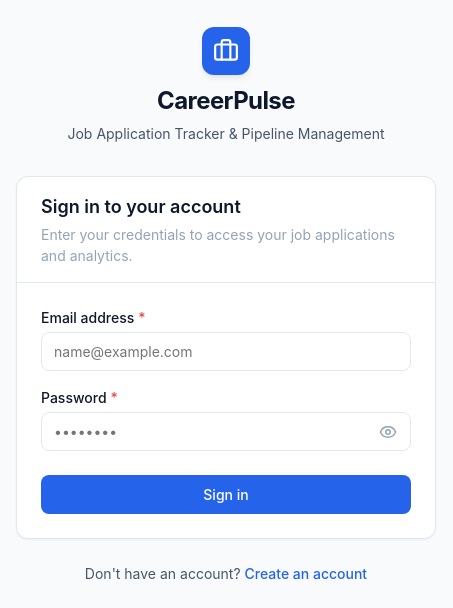
Test: LoginPage Component (Phase 6.5C) › 3. validates email format correctly
Type "not-an-email" into the field labelled "Email address *" at coordinates (226, 351), box [41, 332, 411, 370]
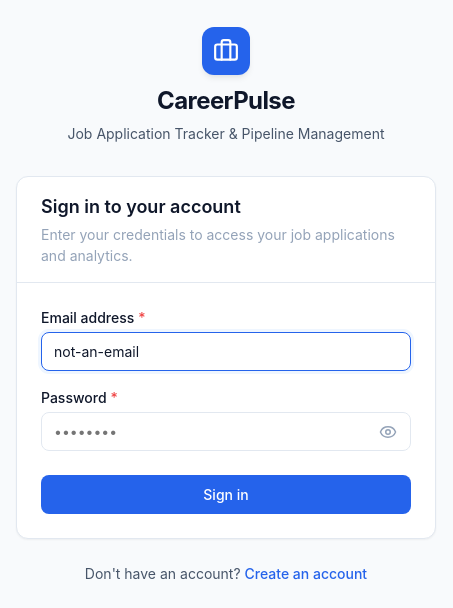
Type "password123" into the password field labelled "Password *" at coordinates (226, 431), box [41, 412, 411, 450]
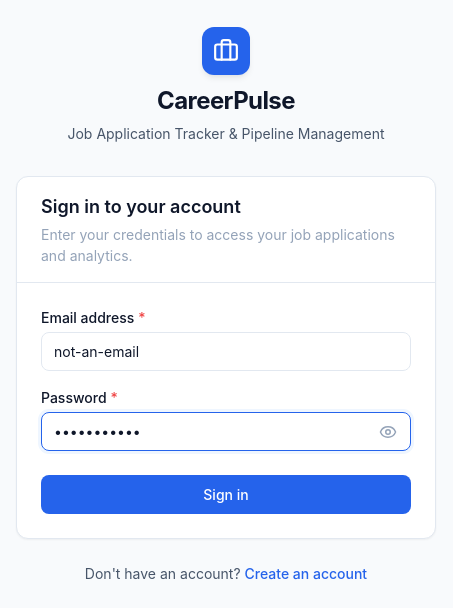
Click the button "Sign in" at coordinates (226, 494), box [41, 474, 411, 514]
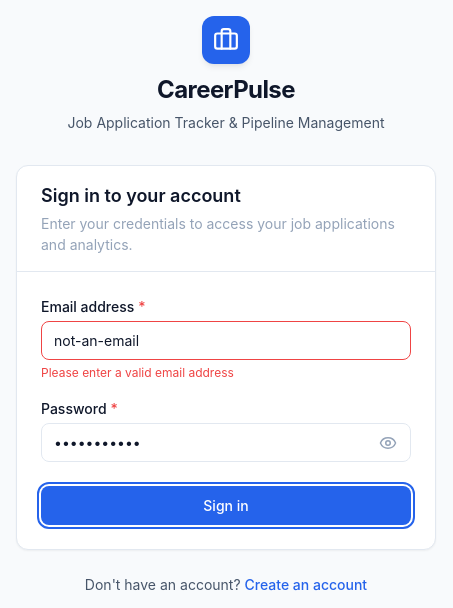
Result: the text "Please enter a valid email address" is shown at [41, 364, 234, 380]
